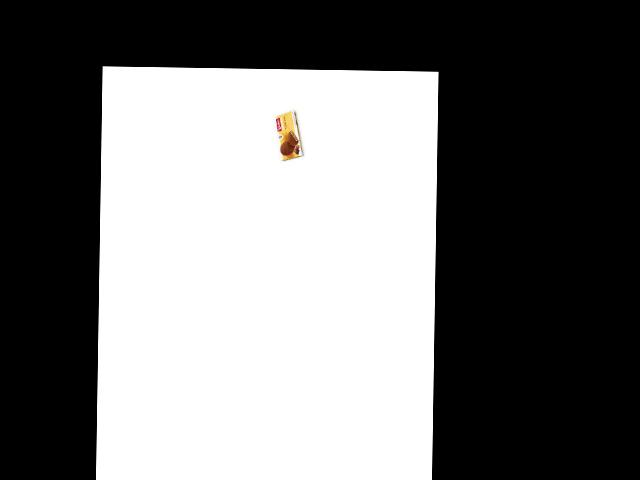chocolate: (274, 102, 299, 164)
